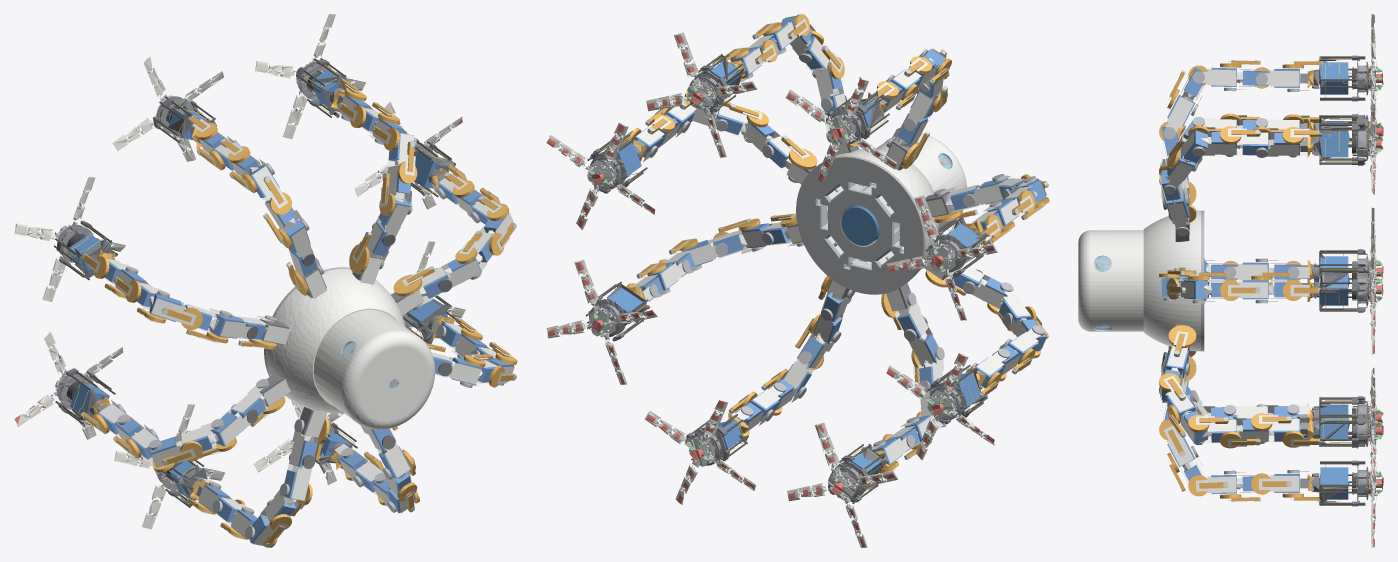
The model's file is cephalo2_all_stand.glb.
The picture shows the model from 3 angles, left to right: view 1: azimuth 30°, elevation 25°; view 2: azimuth 150°, elevation 25°; view 3: azimuth 270°, elevation 25°; orthographic projection. The views are drawn at different scales.
Visible parts, largest first — view 1: arms and hands|c0, turret shell|shell, arms and hands|c7, arms and hands|c22, arms and hands|c3, arms and hands|c4, arms and hands|c13, arms and hands|c12, arms and hands|c6, arms and hands|c11, arms and hands|c2, arms and hands|c21 (+5 smaller); view 2: arms and hands|c0, body|plate, arms and hands|c22, arms and hands|c7, arms and hands|c3, arms and hands|c17, arms and hands|c6, arms and hands|c16, arms and hands|c4, turret shell|shell, arms and hands|c12, arms and hands|c13 (+10 smaller); view 3: arms and hands|c0, turret shell|shell, arms and hands|c7, arms and hands|c3, arms and hands|c12, arms and hands|c4, arms and hands|c11, arms and hands|c13, arms and hands|c6, arms and hands|c22, arms and hands|c21, arms and hands|c20 (+11 smaller).
Boxes of the visible parts, left/top/right/bottom form: arms and hands|c0: left=87, top=84, right=514, bottom=546; turret shell|shell: left=266, top=268, right=435, bottom=429; arms and hands|c7: left=98, top=95, right=513, bottom=543; arms and hands|c22: left=14, top=14, right=465, bottom=529; arms and hands|c3: left=93, top=89, right=517, bottom=546; arms and hands|c4: left=81, top=79, right=515, bottom=545; arms and hands|c13: left=56, top=59, right=455, bottom=507; arms and hands|c12: left=69, top=70, right=447, bottom=500; arms and hands|c6: left=116, top=114, right=504, bottom=539; arms and hands|c11: left=54, top=58, right=455, bottom=507; arms and hands|c2: left=94, top=92, right=517, bottom=547; arms and hands|c21: left=60, top=64, right=432, bottom=490; arms and hands|c0: left=623, top=16, right=1046, bottom=471; body|plate: left=796, top=156, right=925, bottom=294; arms and hands|c22: left=546, top=32, right=997, bottom=547; arms and hands|c7: left=633, top=16, right=1046, bottom=465; arms and hands|c3: left=626, top=14, right=1048, bottom=472; arms and hands|c17: left=546, top=35, right=994, bottom=546; arms and hands|c6: left=648, top=48, right=1044, bottom=447; arms and hands|c16: left=585, top=78, right=958, bottom=502; arms and hands|c4: left=623, top=22, right=1048, bottom=477; turret shell|shell: left=818, top=133, right=966, bottom=280; arms and hands|c12: left=607, top=61, right=980, bottom=478; arms and hands|c13: left=588, top=54, right=987, bottom=502; arms and hands|c0: left=1160, top=61, right=1309, bottom=500; turret shell|shell: left=1078, top=210, right=1200, bottom=351; arms and hands|c7: left=1161, top=67, right=1299, bottom=494; arms and hands|c3: left=1159, top=63, right=1303, bottom=498; arms and hands|c12: left=1320, top=62, right=1348, bottom=499; arms and hands|c4: left=1167, top=60, right=1321, bottom=501; arms and hands|c11: left=1320, top=56, right=1365, bottom=505; arms and hands|c13: left=1319, top=55, right=1370, bottom=506; arms and hands|c6: left=1163, top=71, right=1299, bottom=474; arms and hands|c22: left=1369, top=14, right=1376, bottom=547; arms and hands|c21: left=1357, top=60, right=1368, bottom=501; arms and hands|c20: left=1323, top=58, right=1376, bottom=502.
Size of the model in its own units: 0.883 by 0.883 by 0.5422.
